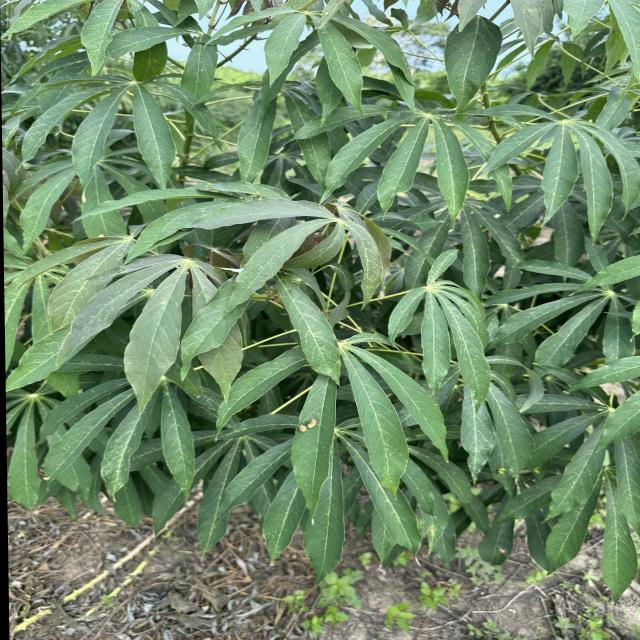Mosca: (296, 415, 326, 438), (489, 206, 505, 225), (495, 540, 511, 557), (492, 466, 505, 477)
